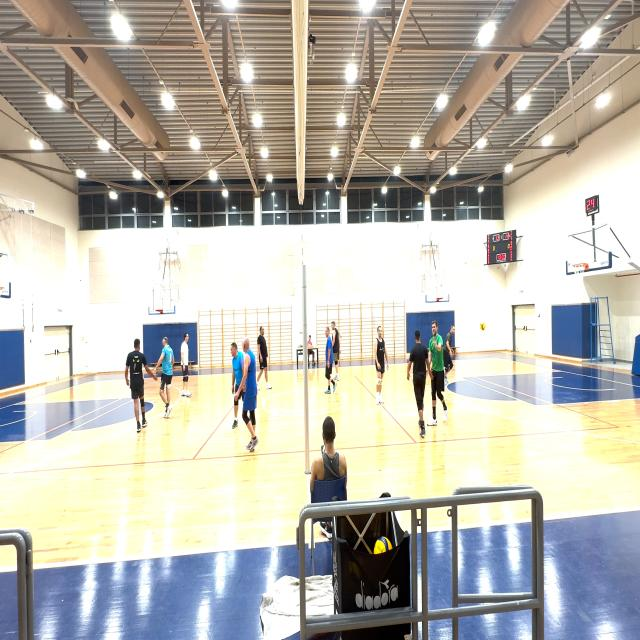volleyball: (373, 536, 392, 555), (480, 321, 486, 331)
